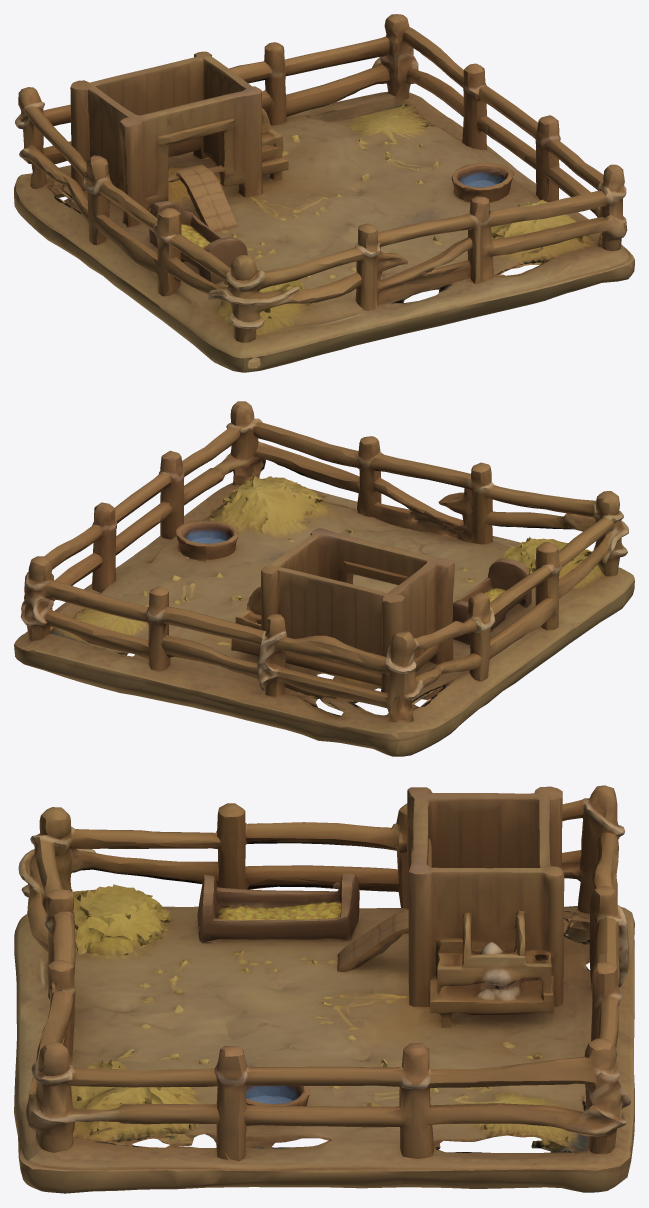
The model's file is ChickenFarm.fbx.
3 views of the same model, one above another, from view 1: azimuth 30°, elevation 25°; view 2: azimuth 150°, elevation 25°; view 3: azimuth 270°, elevation 25° (orthographic). The views are drawn at different scales.
Parts seen in each view (by area): view 1: node_8c247553_8bd0_4e14_b63e_ca88f2b61f6a_mesh0; view 2: node_8c247553_8bd0_4e14_b63e_ca88f2b61f6a_mesh0; view 3: node_8c247553_8bd0_4e14_b63e_ca88f2b61f6a_mesh0.
Part boxes in pixels (left/top/right/bottom): node_8c247553_8bd0_4e14_b63e_ca88f2b61f6a_mesh0: left=14, top=14, right=634, bottom=372; node_8c247553_8bd0_4e14_b63e_ca88f2b61f6a_mesh0: left=14, top=401, right=634, bottom=756; node_8c247553_8bd0_4e14_b63e_ca88f2b61f6a_mesh0: left=14, top=785, right=634, bottom=1193.
Size of the model in its own units: 99.99 by 31.73 by 99.95.
1 material, 1 textured.
